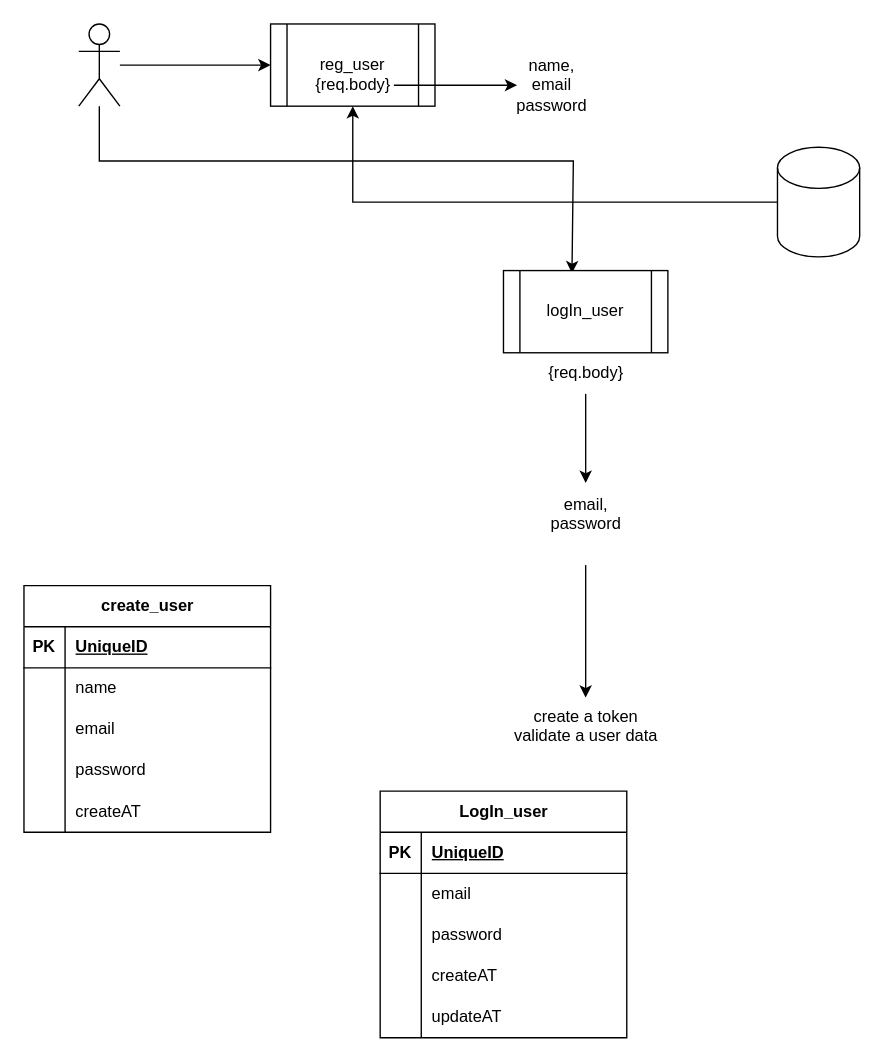
This 884x1062 diagram has some shape labels left out. The centre of each missing label's shape, as x and y in pixels:
"Save Data" goes at point 818,201.
"User" goes at point 98,64.
